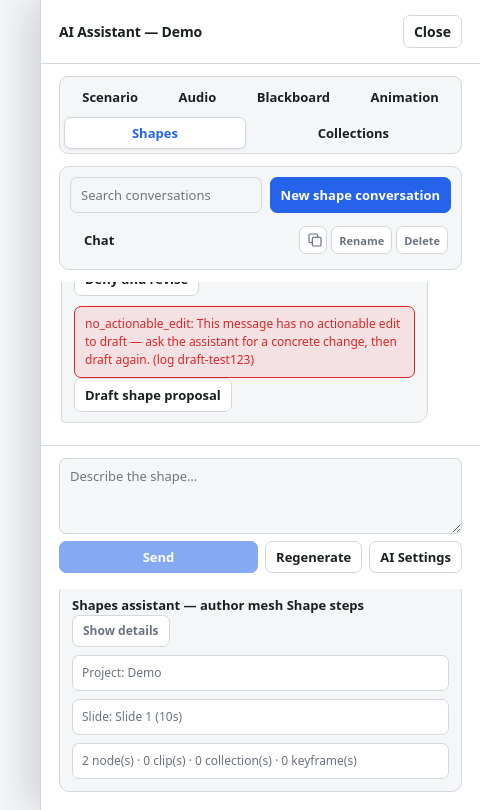
Scenario: AiPanel inline proposals › drafts a shape proposal inline and closes the modal in shape mode
The width and height of the screenshot is (480, 810).
(page scrolled)
Click the button with test id "ai-message-draft-m-1" at point(153, 395), box [74,378,232,412]
(page scrolled)
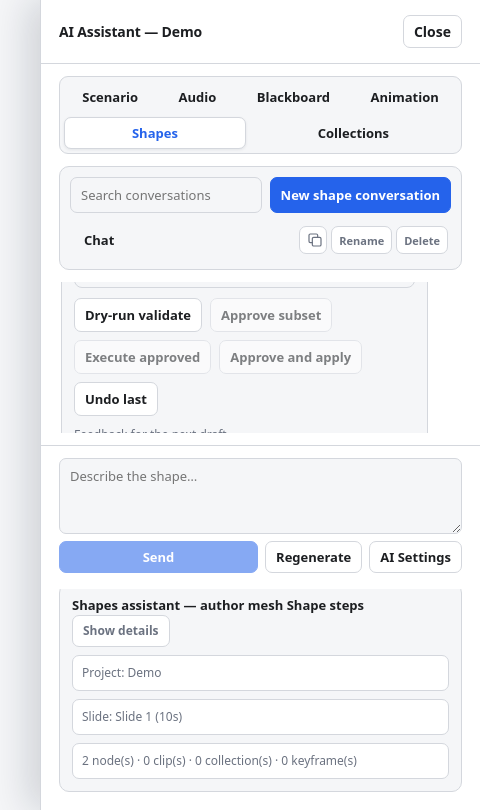
expect the button with test id "ai-proposal-approve-and-apply" is shown: met, box [219,340,362,374]
